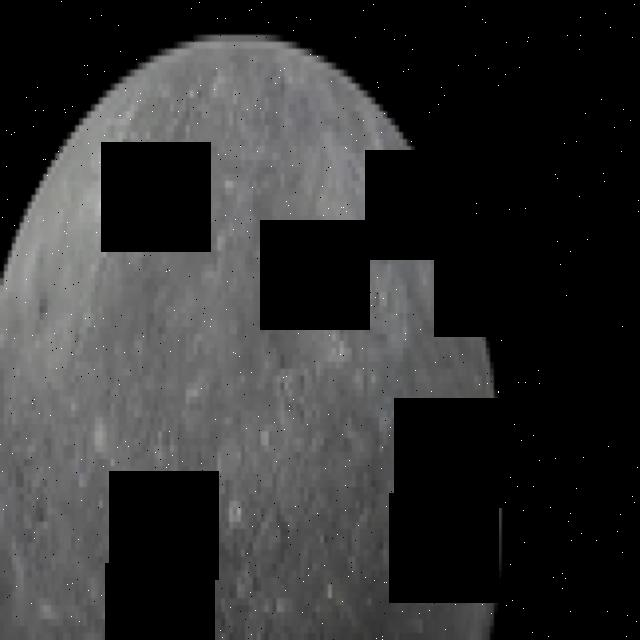Mercury: (0, 35, 502, 640)
